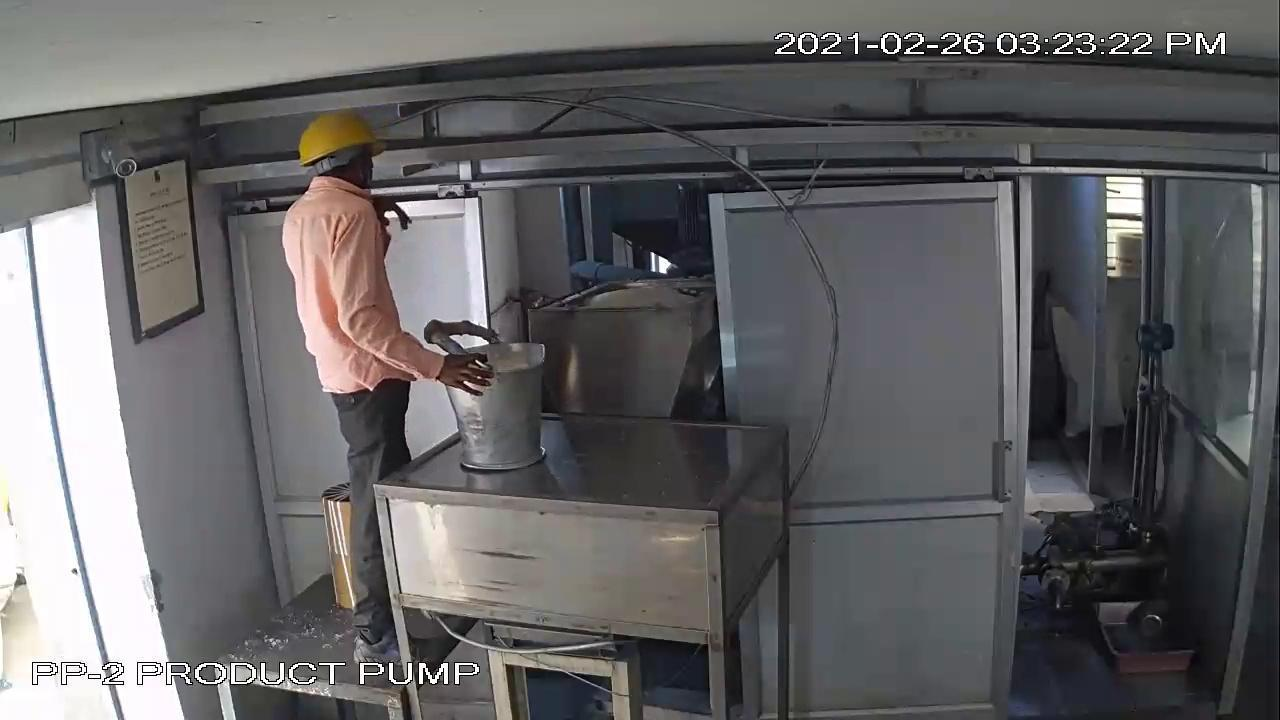helmet: (289, 106, 395, 173)
